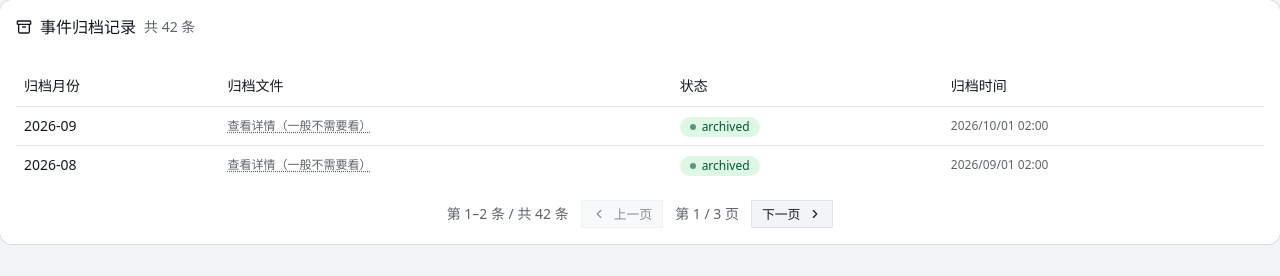
ArchiveLogsCard（C30 事件归档记录） › 有记录时展示 month / status / archived_at；归档文件位置默认折叠，点「查看详情」才出现
The width and height of the screenshot is (1280, 276).
Click the button "查看详情（一般不需要看）" next to "2026-09" at (300, 126), box [228, 118, 372, 134]
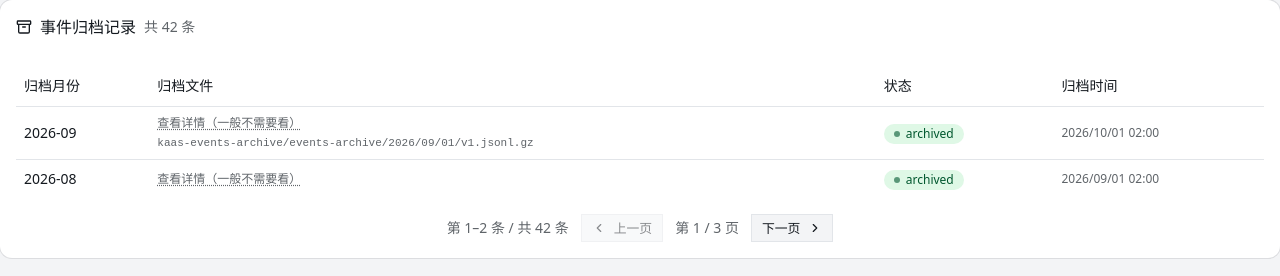
Now the text "kaas-events-archive/events-archive/2026/09/01/v1.jsonl.gz" is shown, box [157, 136, 534, 148]
